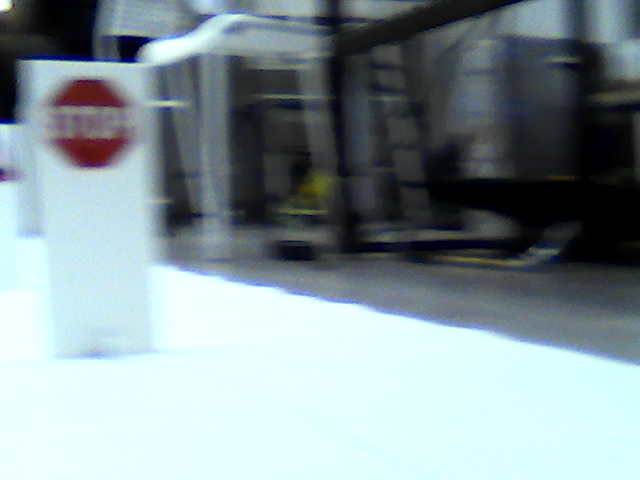Stop: (48, 75, 132, 169)
